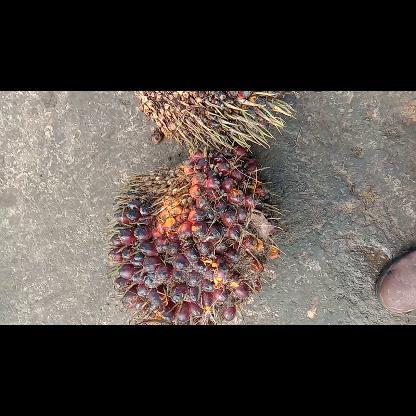Kurang masak: (106, 150, 284, 324)
TBS abnormal: (132, 91, 296, 153)
